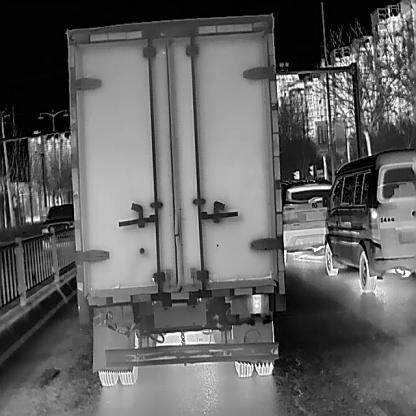car: (65, 11, 280, 385), (323, 147, 415, 292), (281, 177, 331, 263), (41, 202, 74, 246)
